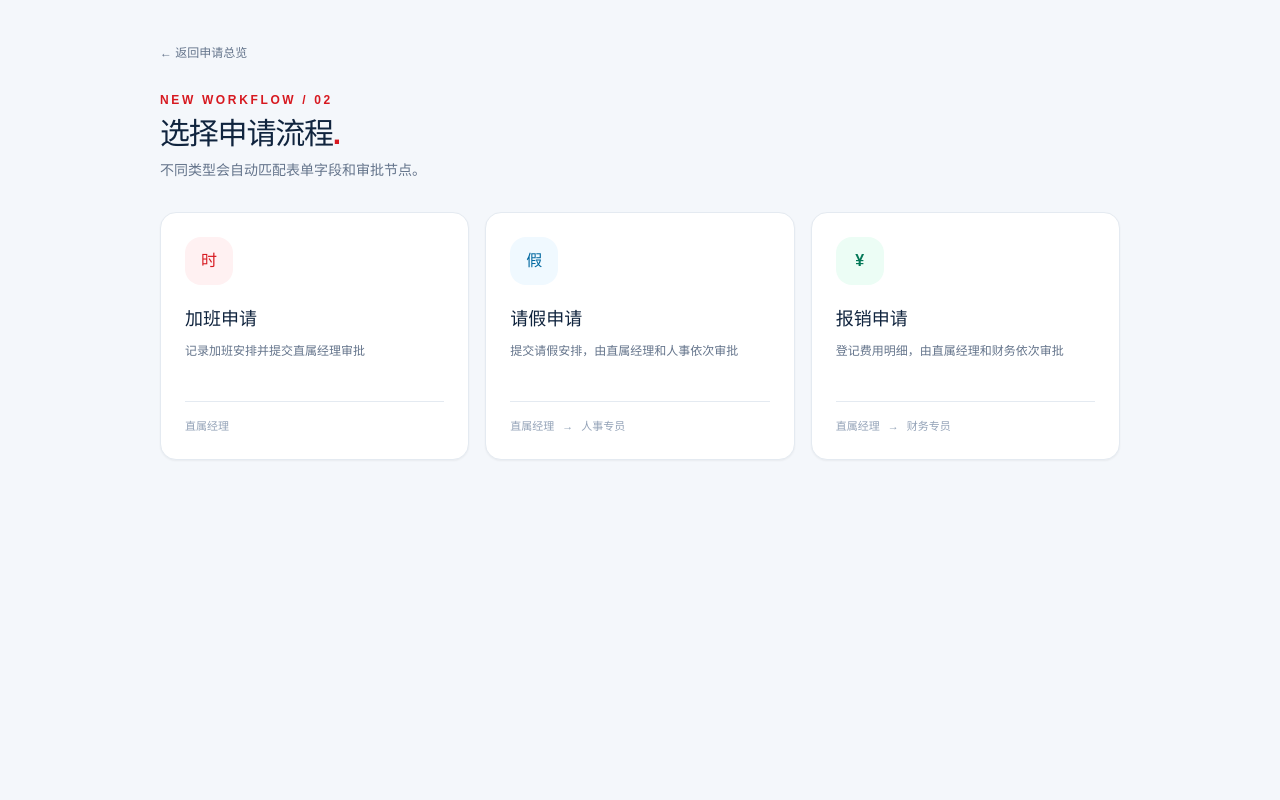
Scenario: new application page › returns to process selection instead of the dashboard when cancelling
The width and height of the screenshot is (1280, 800).
Step 1. Click the button "时 加班申请 记录加班安排并提交直属经理审批 直属经理" → (209, 261), box 160,212 -> 469,460
(page scrolled)
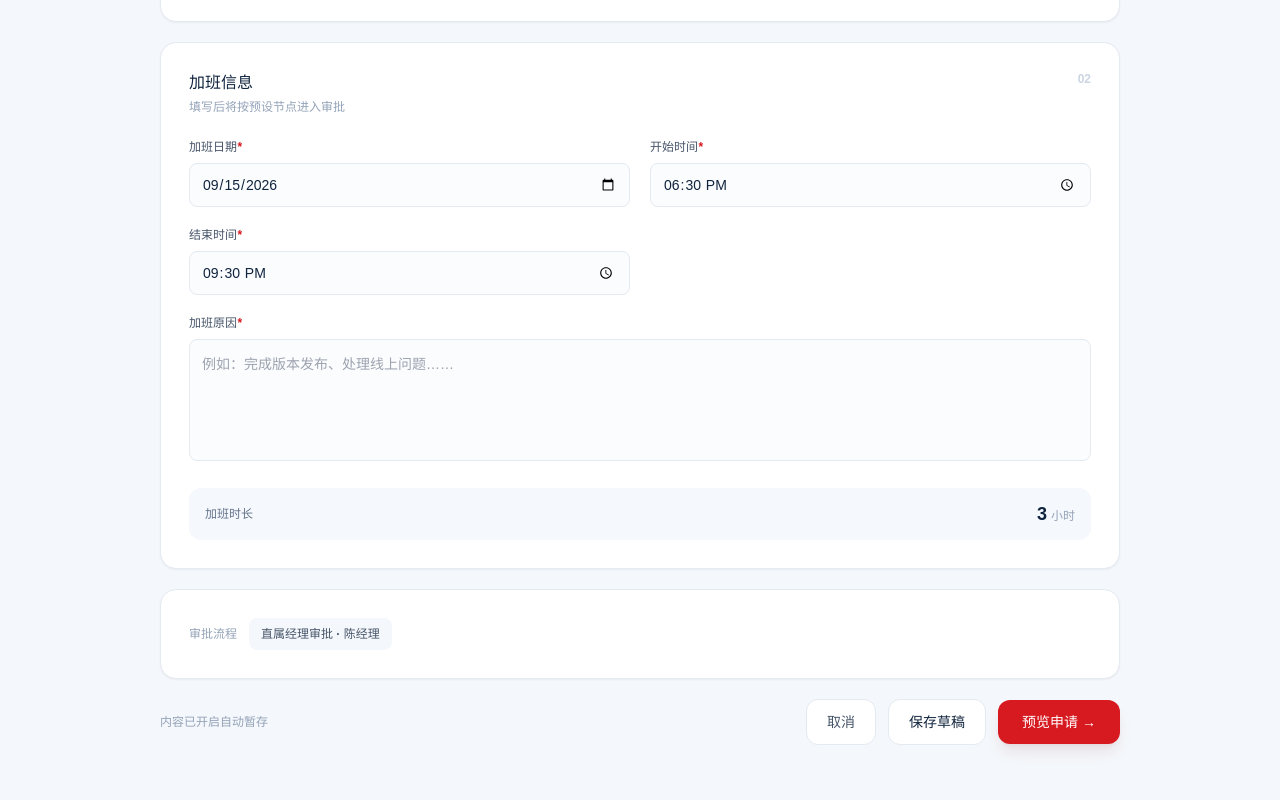
Step 2. Type "不再继续填写" into the text box labelled "加班原因*" → (640, 400), box 189,339 -> 1091,461
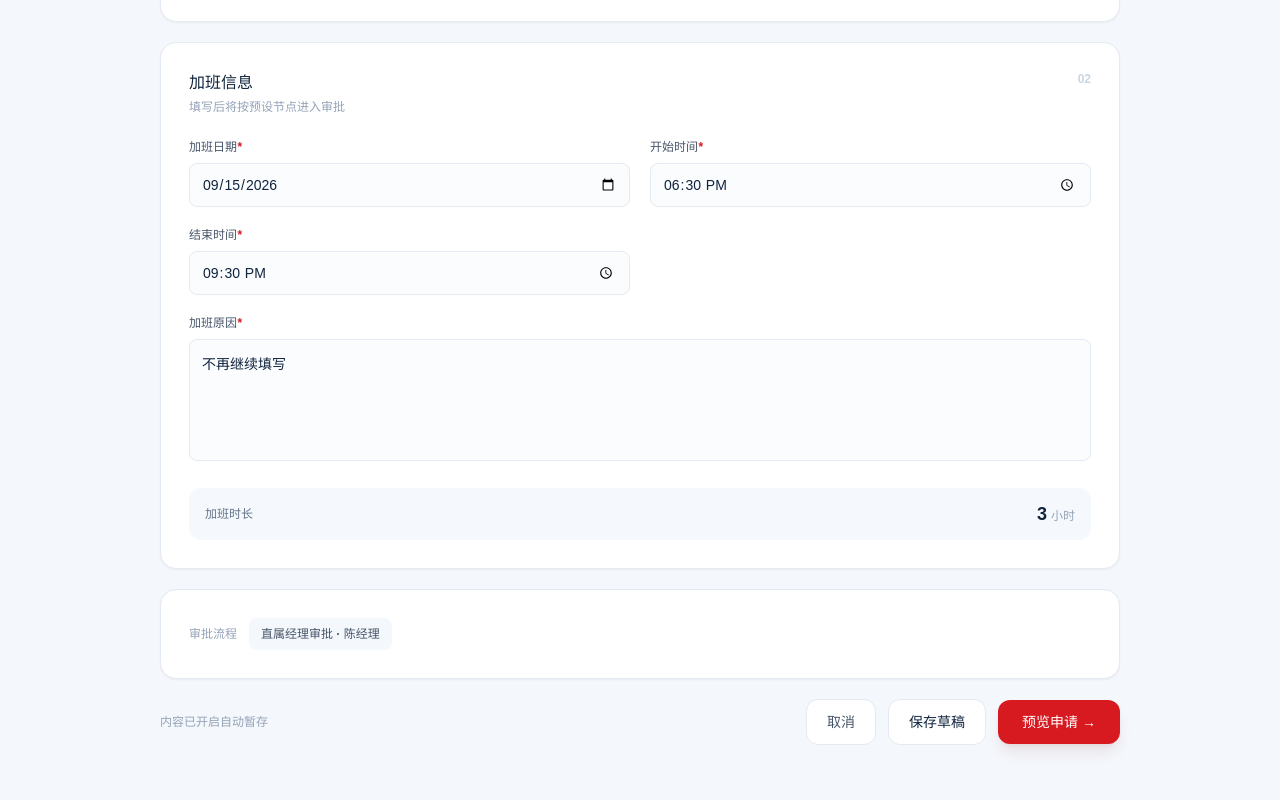
Step 3. Click the button "取消" → (841, 722), box 806,699 -> 876,745
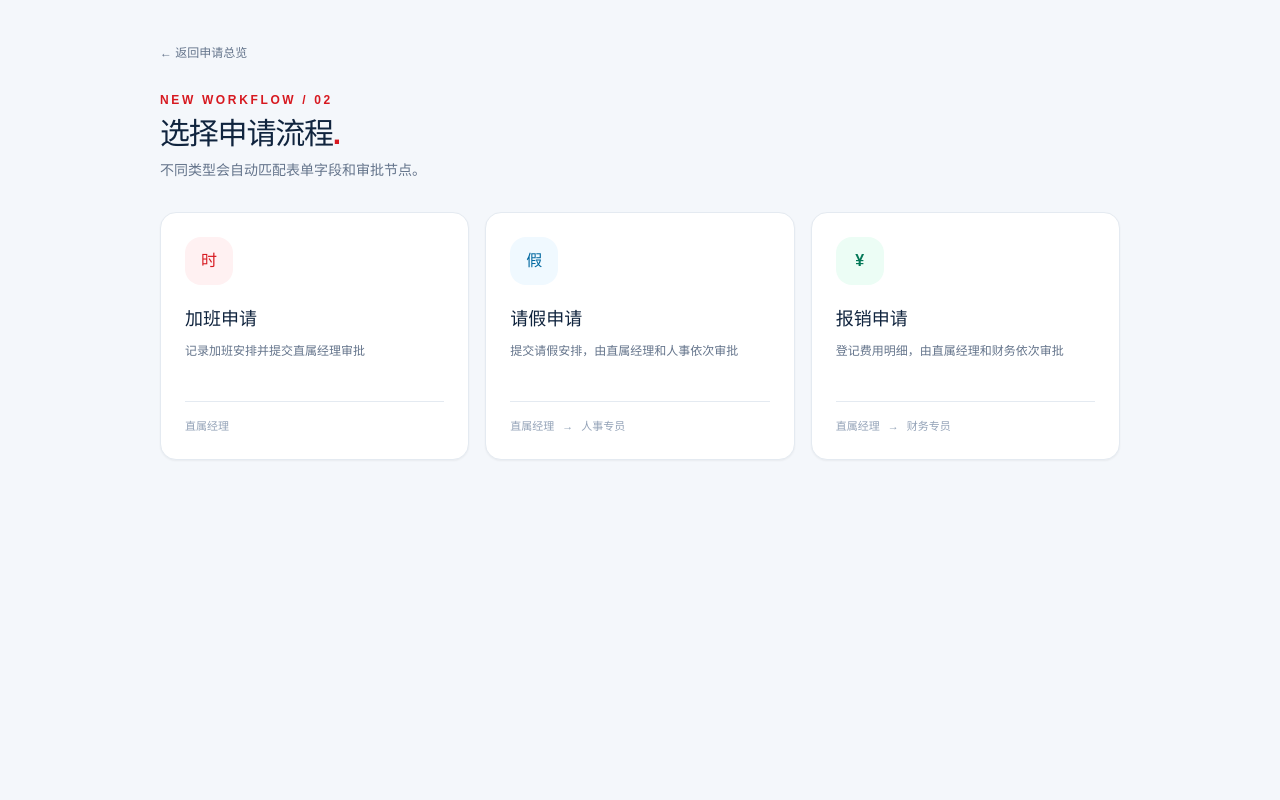
Expected: the heading "选择申请流程." is shown, 160,117 -> 340,150
Expected: the field labelled "加班原因" is gone
